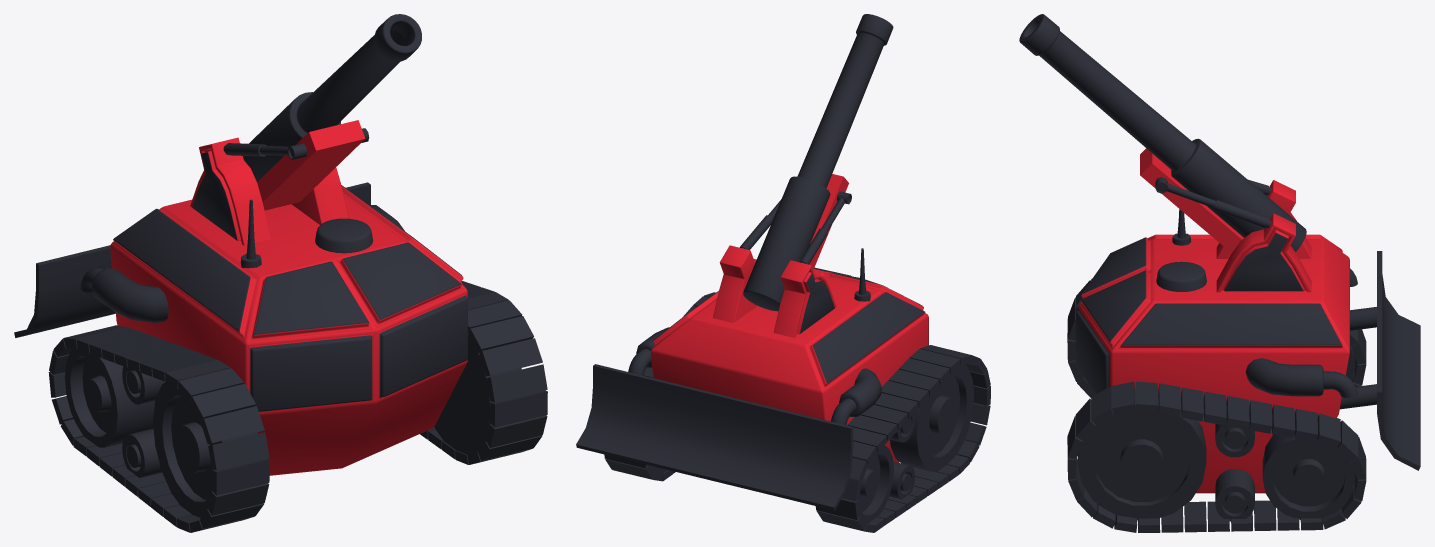
File: Howitzer.fbx
3 renders of one model, left to right at view 1: azimuth 30°, elevation 25°; view 2: azimuth 150°, elevation 25°; view 3: azimuth 270°, elevation 25°, orthographic. The views are drawn at different scales.
Visible parts, largest first — view 1: Howitzer; view 2: Howitzer; view 3: Howitzer.
Boxes of the visible parts, <box> form: Howitzer: <box>14,14,547,532</box>; Howitzer: <box>576,14,990,532</box>; Howitzer: <box>1019,14,1420,532</box>.
Bounding box in the file's own units: 1.54 × 2.27 × 1.85.
